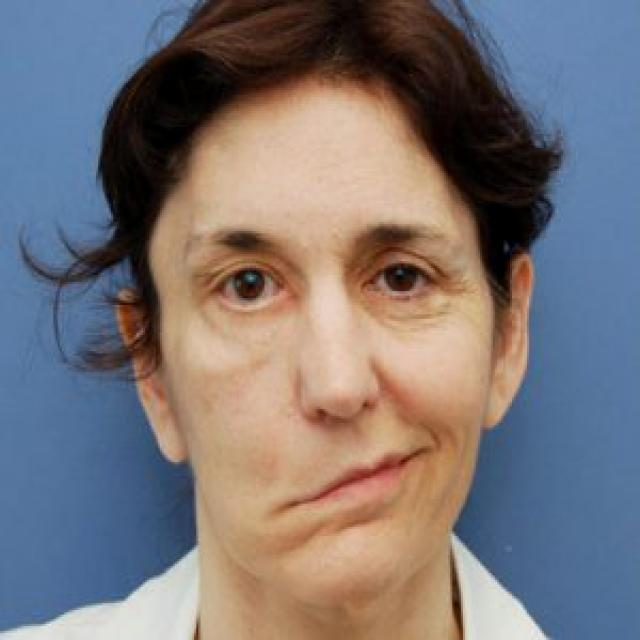stroke_face: (161, 60, 496, 611)
